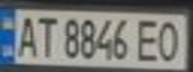4: (93, 16, 115, 61)
6: (112, 15, 136, 61)
8: (60, 15, 81, 60), (78, 15, 96, 60)
A: (12, 12, 39, 59)
E: (133, 16, 163, 62)
O: (154, 17, 187, 63)
T: (33, 14, 57, 58)
